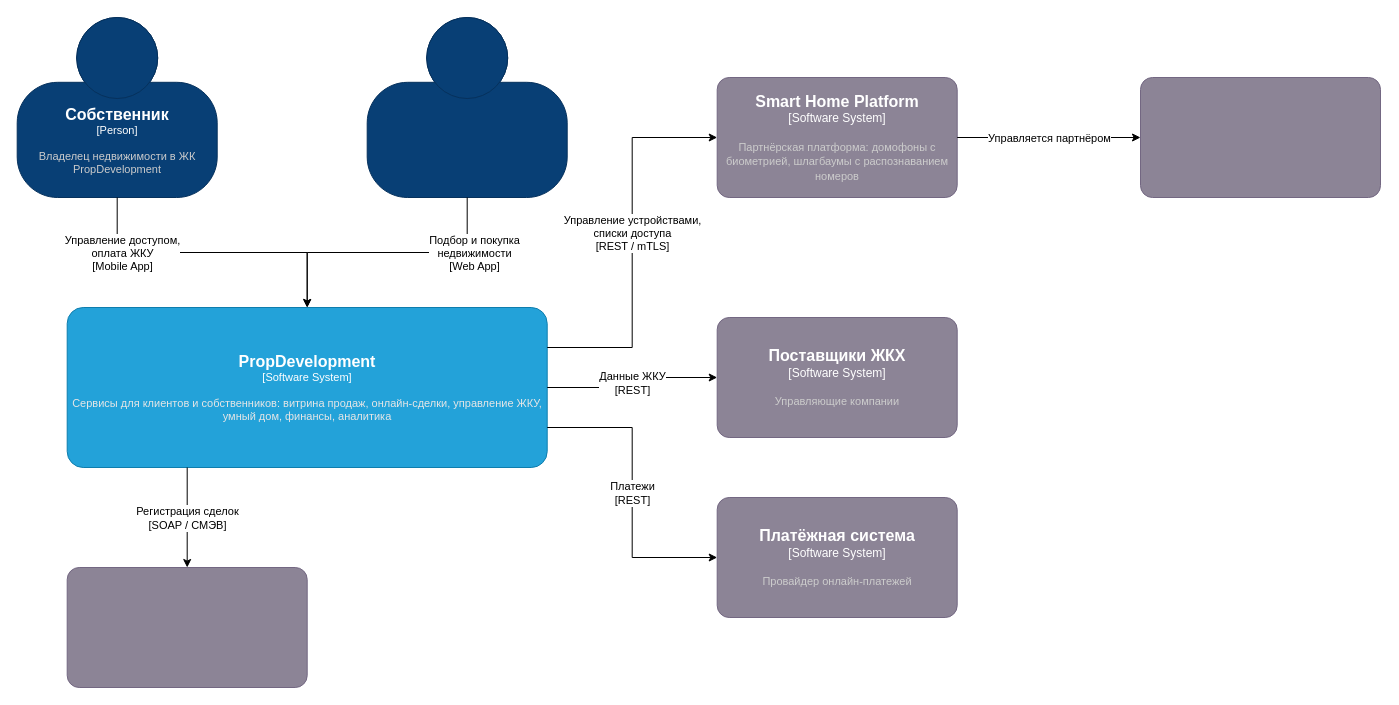
This 1399x705 diagram has some shape labels left out. Each missing label, with the centre of its shape:
IoT-устройства [Software System] Домофоны и шлагбаумы в жилых комплексах: the point at 1260,137
Государственные рег. органы [Software System] Регистрация сделок с недвижимостью: the point at 186,627
Клиент [Person] Покупатель недвижимости: the point at 466,107
